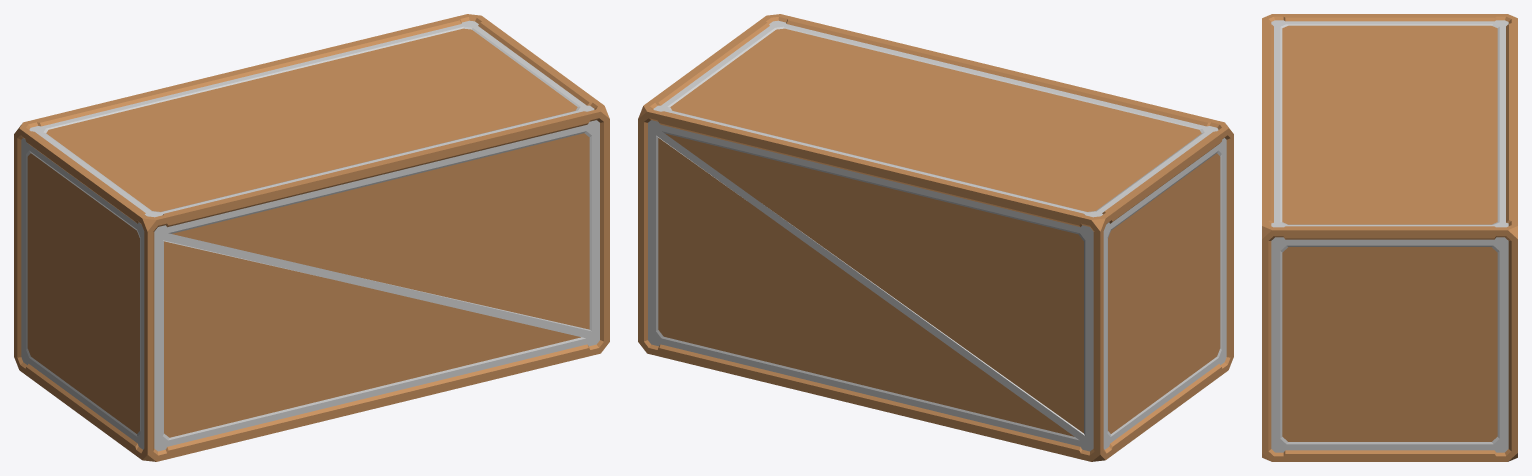
Rendered from crate orange huge.fbx.
The picture shows the model from 3 angles, left to right: view 1: azimuth 30°, elevation 25°; view 2: azimuth 150°, elevation 25°; view 3: azimuth 270°, elevation 25°; orthographic projection. The views are drawn at different scales.
Visible parts, largest first — view 1: Crate Huge; view 2: Crate Huge; view 3: Crate Huge.
Boxes of the visible parts, left/top/right/bottom form: Crate Huge: left=14, top=14, right=609, bottom=461; Crate Huge: left=638, top=14, right=1233, bottom=461; Crate Huge: left=1262, top=14, right=1517, bottom=461.
Size of the model in its own units: 400 by 200 by 200.
